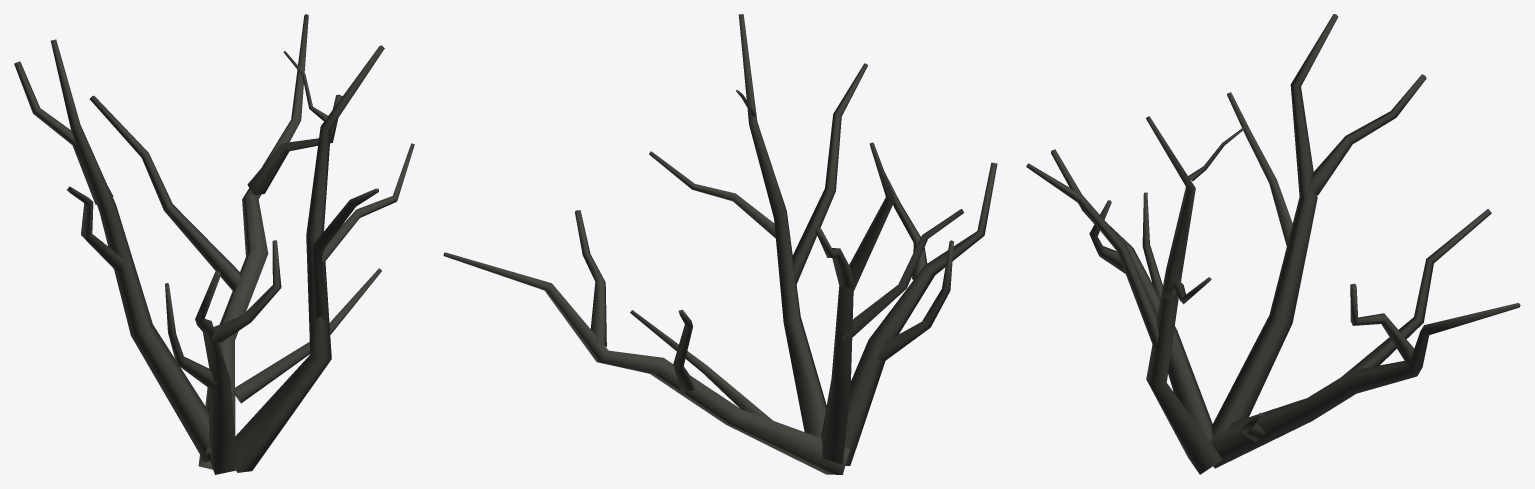
Rendered from bush_3.fbx.
3 views of the same model, side by side, from view 1: azimuth 30°, elevation 25°; view 2: azimuth 150°, elevation 25°; view 3: azimuth 270°, elevation 25° (orthographic). The views are drawn at different scales.
Visible parts, largest first — view 1: bush_3; view 2: bush_3; view 3: bush_3.
Boxes of the visible parts, x1,y1,x2,y2 form: bush_3: [14, 14, 414, 474]; bush_3: [443, 14, 997, 474]; bush_3: [1026, 14, 1520, 474].
Bounding box in the file's own units: 3.04 × 3.15 × 3.45.
